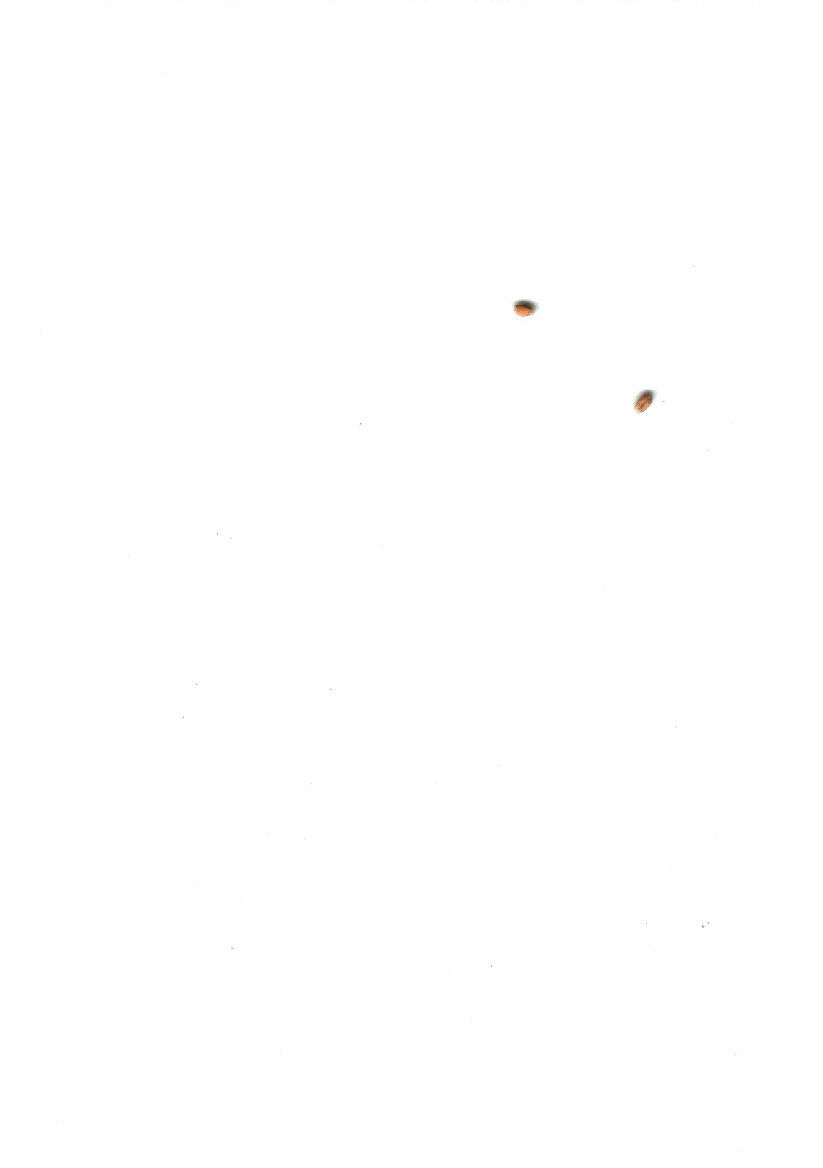grains: (618, 381, 672, 429), (507, 282, 553, 334)
